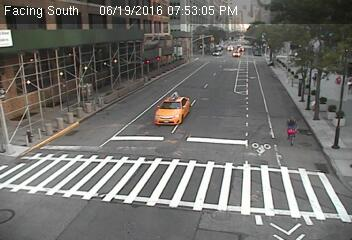neg: (275, 110, 307, 152)
